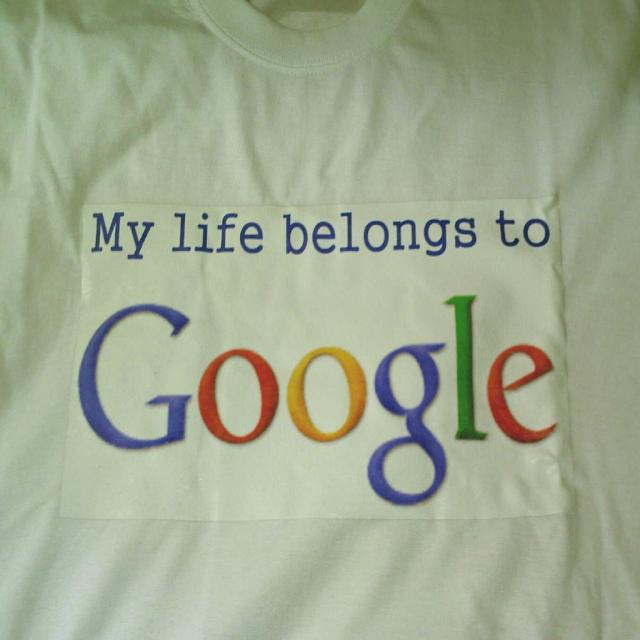google: (75, 284, 570, 512)
